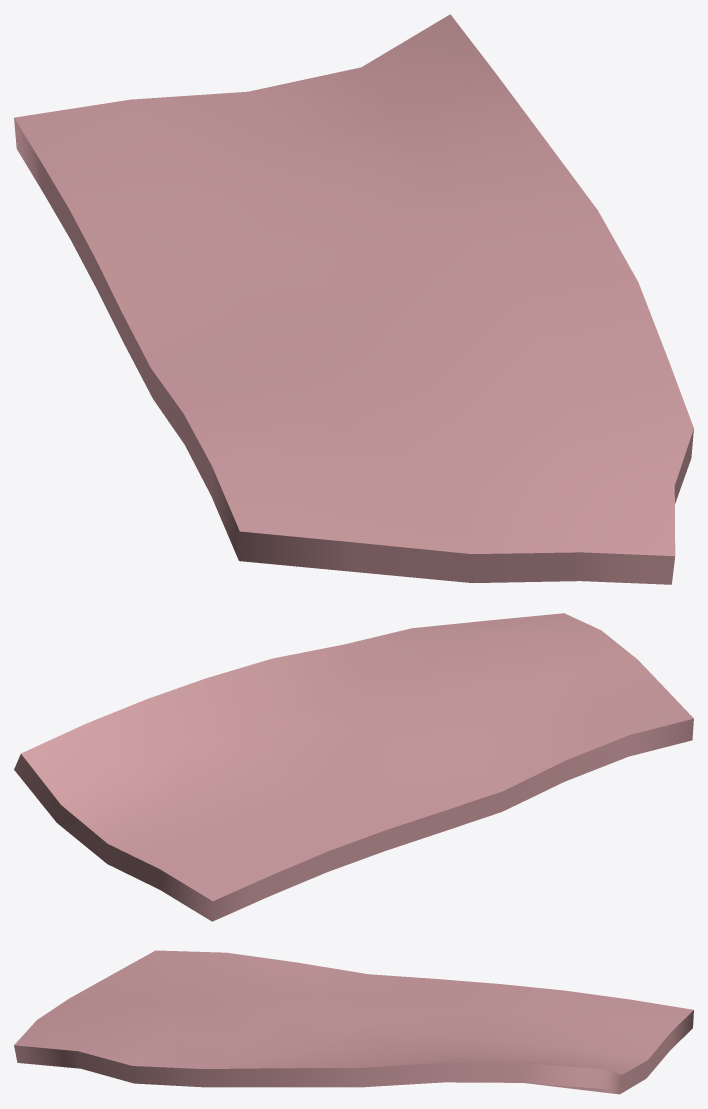
The picture shows the model from 3 angles, top to bottom: view 1: azimuth 30°, elevation 25°; view 2: azimuth 150°, elevation 25°; view 3: azimuth 270°, elevation 25°; orthographic projection. The views are drawn at different scales.
Parts seen in each view (by area): view 1: ZA_bda2a7ad5d19c215; view 2: ZA_bda2a7ad5d19c215; view 3: ZA_bda2a7ad5d19c215.
Boxes of the visible parts, <box> form: ZA_bda2a7ad5d19c215: <box>14,14,693,584</box>; ZA_bda2a7ad5d19c215: <box>14,613,693,921</box>; ZA_bda2a7ad5d19c215: <box>14,950,693,1094</box>.
Size of the model in its own units: 0.0617 by 0.0124 by 0.1029.
